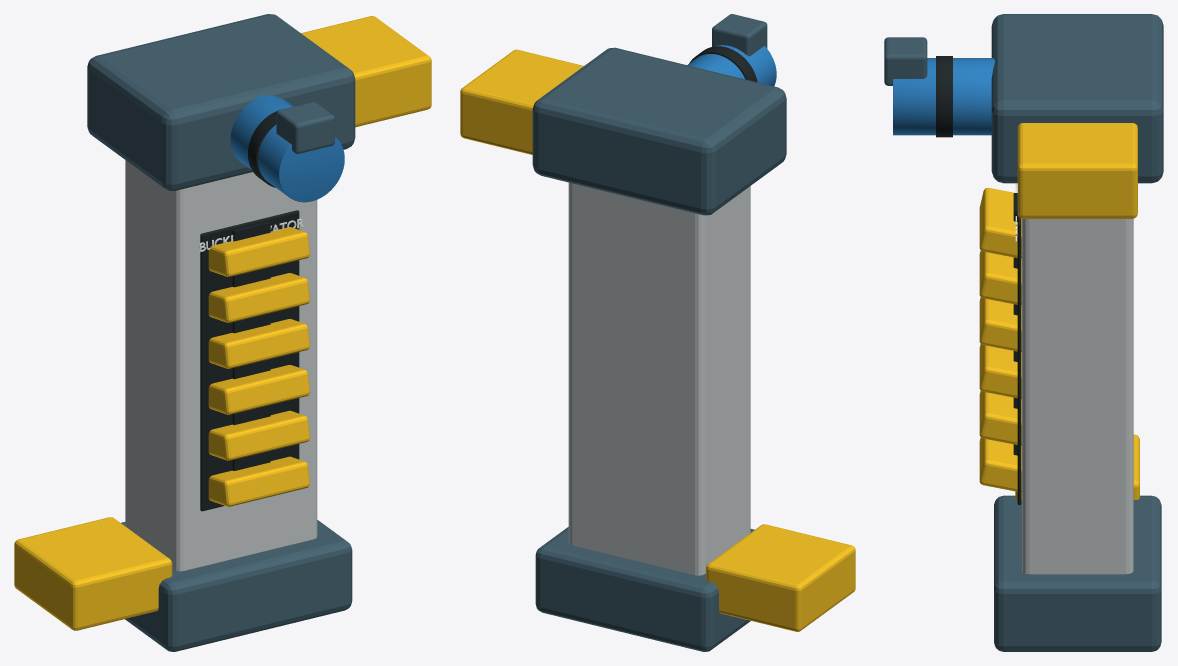
Rendered from elevator_car_shaft.glb.
3 renders of one model, left to right at view 1: azimuth 30°, elevation 25°; view 2: azimuth 150°, elevation 25°; view 3: azimuth 270°, elevation 25°, orthographic. The views are drawn at different scales.
Visible parts, largest first — view 1: LEG_CASING, HEAD, BOOT, INLET_CHUTE, DISCHARGE_CHUTE, INSPECTION_WINDOW, HEAD_DRIVE_MOTOR, BUCKET_1, BUCKET_0, BUCKET_3, BUCKET_4, BUCKET_2 (+4 smaller); view 2: LEG_CASING, HEAD, BOOT, INLET_CHUTE, DISCHARGE_CHUTE, HEAD_DRIVE_TERMINAL, HEAD_DRIVE_MOTOR, HEAD_DRIVE_FAN; view 3: LEG_CASING, HEAD, BOOT, DISCHARGE_CHUTE, HEAD_DRIVE_MOTOR, BUCKET_5, HEAD_DRIVE_TERMINAL, BUCKET_4, BUCKET_0, BUCKET_1, BUCKET_2, BUCKET_3 (+4 smaller).
Boxes of the visible parts, <box> form: LEG_CASING: <box>125,160,317,571</box>; HEAD: <box>87,14,355,190</box>; BOOT: <box>121,520,352,651</box>; INLET_CHUTE: <box>14,517,172,630</box>; DISCHARGE_CHUTE: <box>301,16,431,127</box>; INSPECTION_WINDOW: <box>200,210,299,511</box>; HEAD_DRIVE_MOTOR: <box>230,95,344,202</box>; BUCKET_1: <box>208,410,309,460</box>; BUCKET_0: <box>208,456,309,506</box>; BUCKET_3: <box>208,319,309,368</box>; BUCKET_4: <box>208,273,309,322</box>; BUCKET_2: <box>208,365,309,414</box>; LEG_CASING: <box>568,182,750,575</box>; HEAD: <box>532,47,786,215</box>; BOOT: <box>535,527,754,651</box>; INLET_CHUTE: <box>706,524,855,631</box>; DISCHARGE_CHUTE: <box>460,49,583,154</box>; HEAD_DRIVE_TERMINAL: <box>712,14,767,56</box>; HEAD_DRIVE_MOTOR: <box>687,45,776,86</box>; HEAD_DRIVE_FAN: <box>689,46,757,82</box>; LEG_CASING: <box>1022,218,1133,574</box>; HEAD: <box>991,14,1163,183</box>; BOOT: <box>994,495,1161,651</box>; DISCHARGE_CHUTE: <box>1017,123,1137,218</box>; HEAD_DRIVE_MOTOR: <box>893,58,994,135</box>; BUCKET_5: <box>979,187,1021,258</box>; HEAD_DRIVE_TERMINAL: <box>884,37,927,85</box>; BUCKET_4: <box>979,250,1021,305</box>; BUCKET_0: <box>979,437,1021,492</box>; BUCKET_1: <box>979,390,1021,445</box>; BUCKET_2: <box>979,344,1021,398</box>; BUCKET_3: <box>979,297,1021,352</box>.
Bounding box in the file's own units: 1.97 × 2.89 × 1.3.
